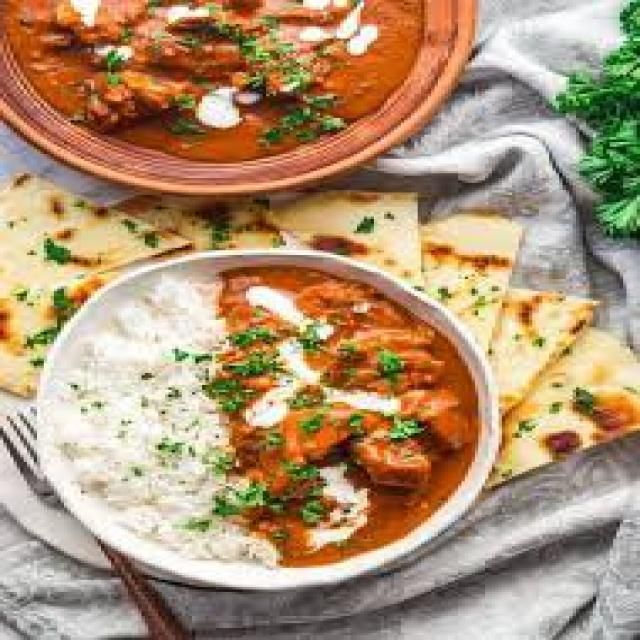Butter Chicken: (206, 265, 482, 563), (3, 0, 428, 159)
